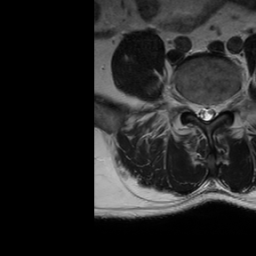CCS_normal: (202, 96, 209, 127)
LFS_normal: (217, 91, 225, 118)
LLS_normal: (209, 95, 217, 125)
RFS_normal: (187, 92, 195, 119)
RLS_normal: (195, 94, 202, 125)
